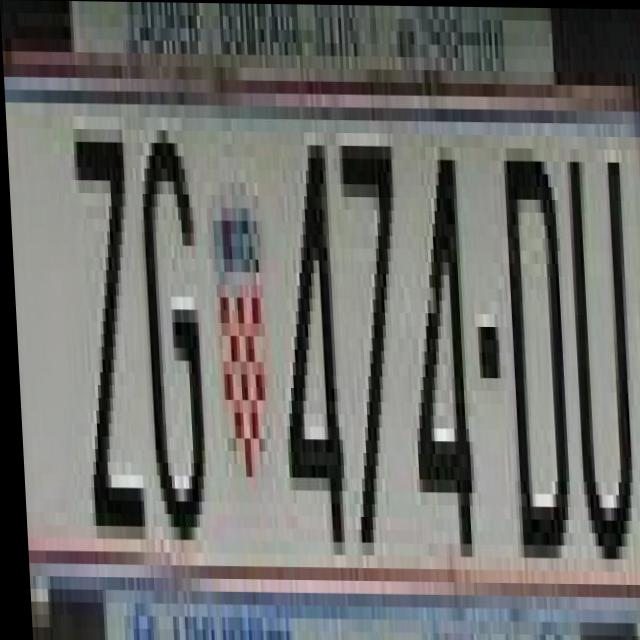4: (264, 118, 343, 580), (395, 133, 475, 568)
7: (331, 131, 403, 555)
D: (491, 108, 577, 634)
G: (128, 104, 205, 566)
U: (561, 134, 640, 583)
Z: (56, 103, 141, 552)
